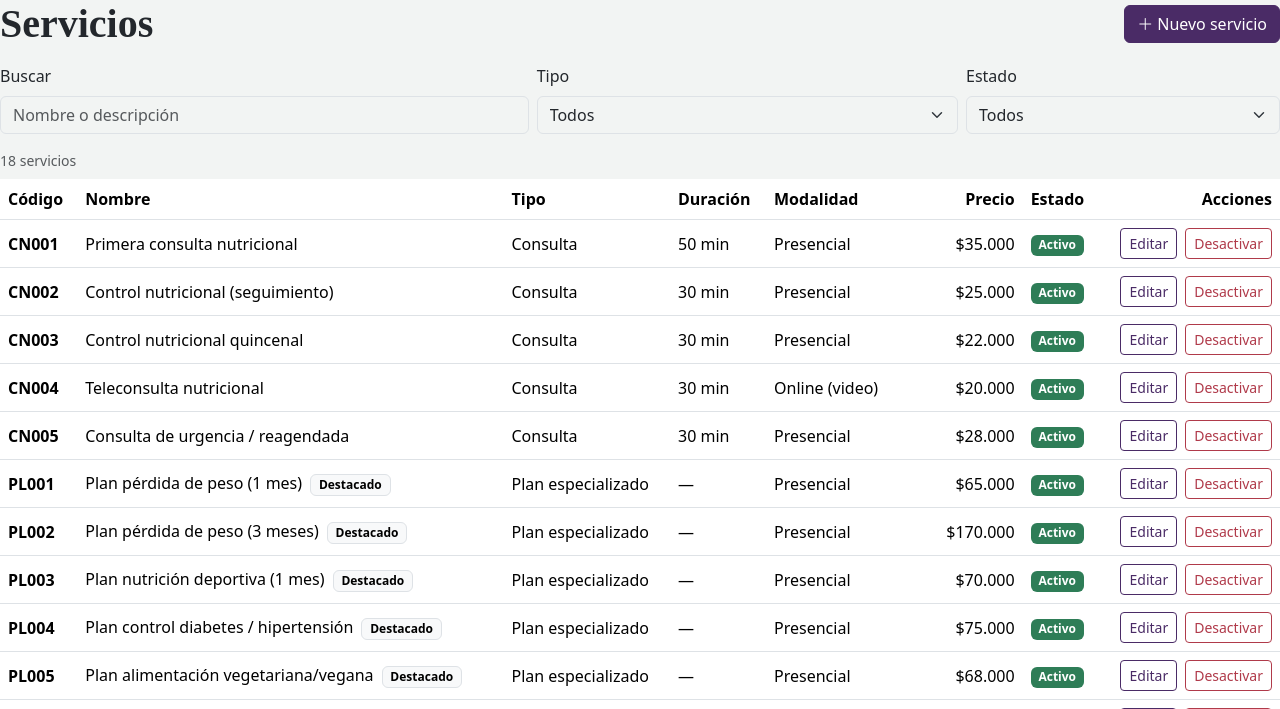
Test: AdminServicios › filtra por tipo y por estado
The image size is (1280, 709).
Expected: the text "18 servicios" is shown, x1=0 y1=151 x2=76 y2=170
Select "Talleres" in the dropdown labelled "Tipo" at (747, 115), box x1=537 y1=96 x2=958 y2=134
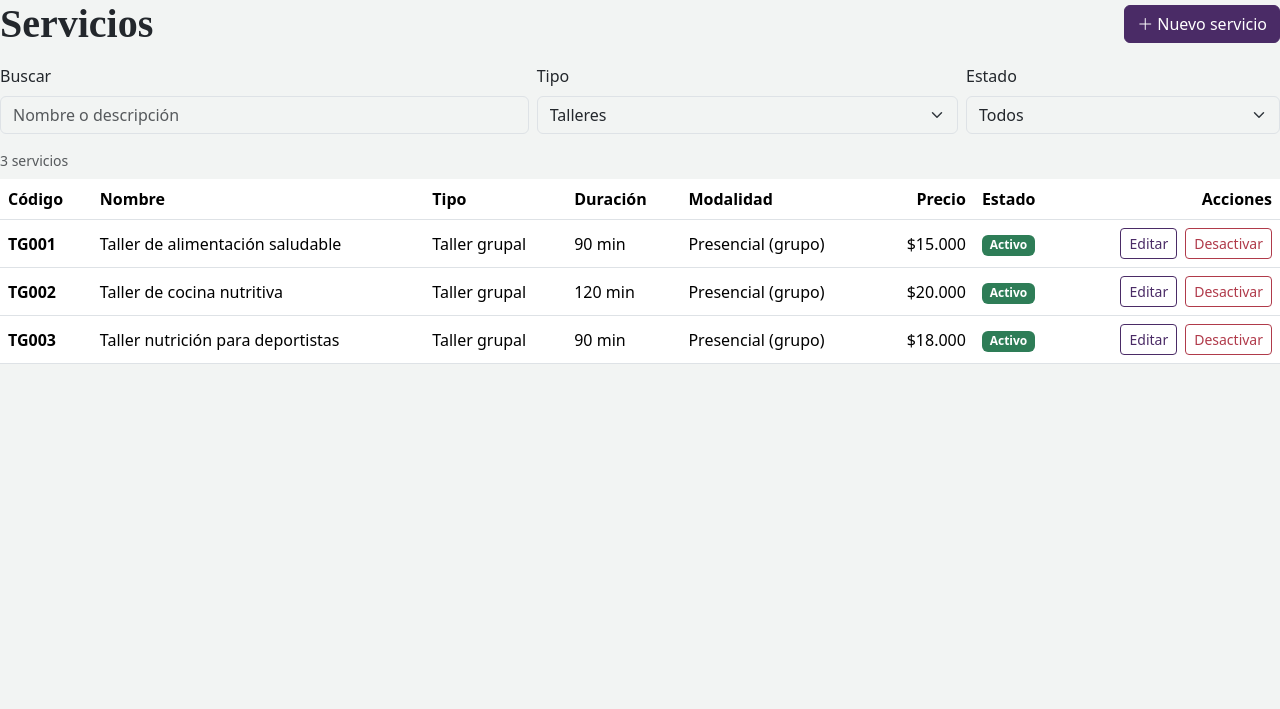
Now the text "3 servicios" is shown, box x1=0 y1=151 x2=68 y2=170
Select "Inactivos" in the dropdown labelled "Estado" at (1123, 115), box x1=966 y1=96 x2=1279 y2=134
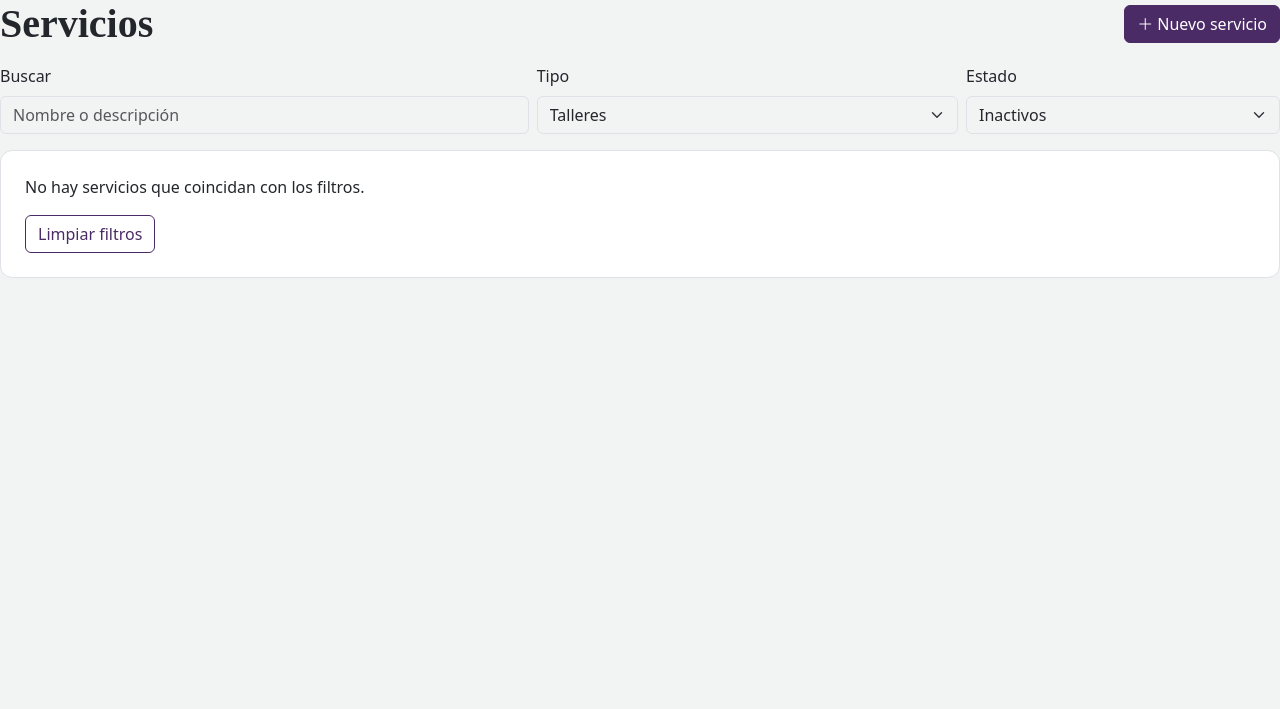
Now the text "No hay servicios que coincidan con los filtros." is shown, box x1=25 y1=176 x2=364 y2=198
